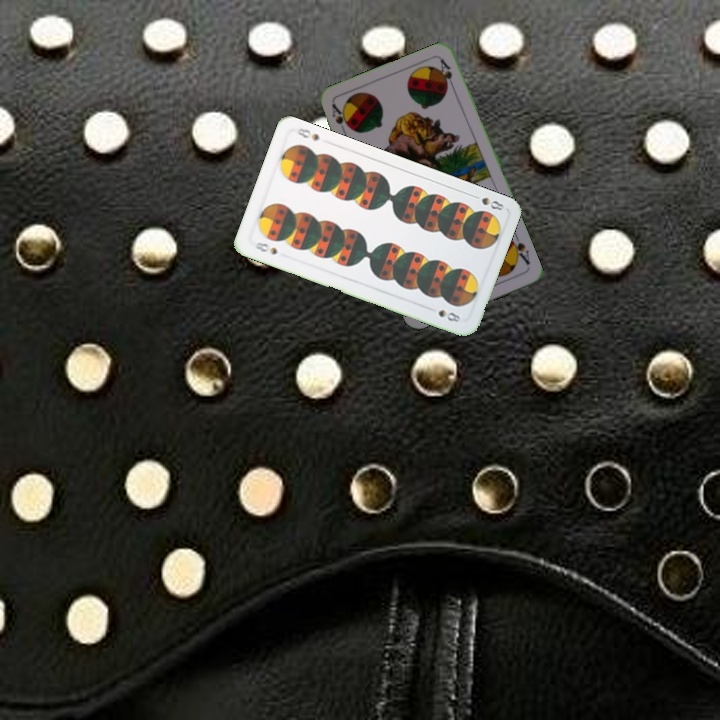S8: (467, 190, 507, 213), (251, 238, 280, 257)
SA: (504, 230, 532, 267), (328, 100, 351, 129)
